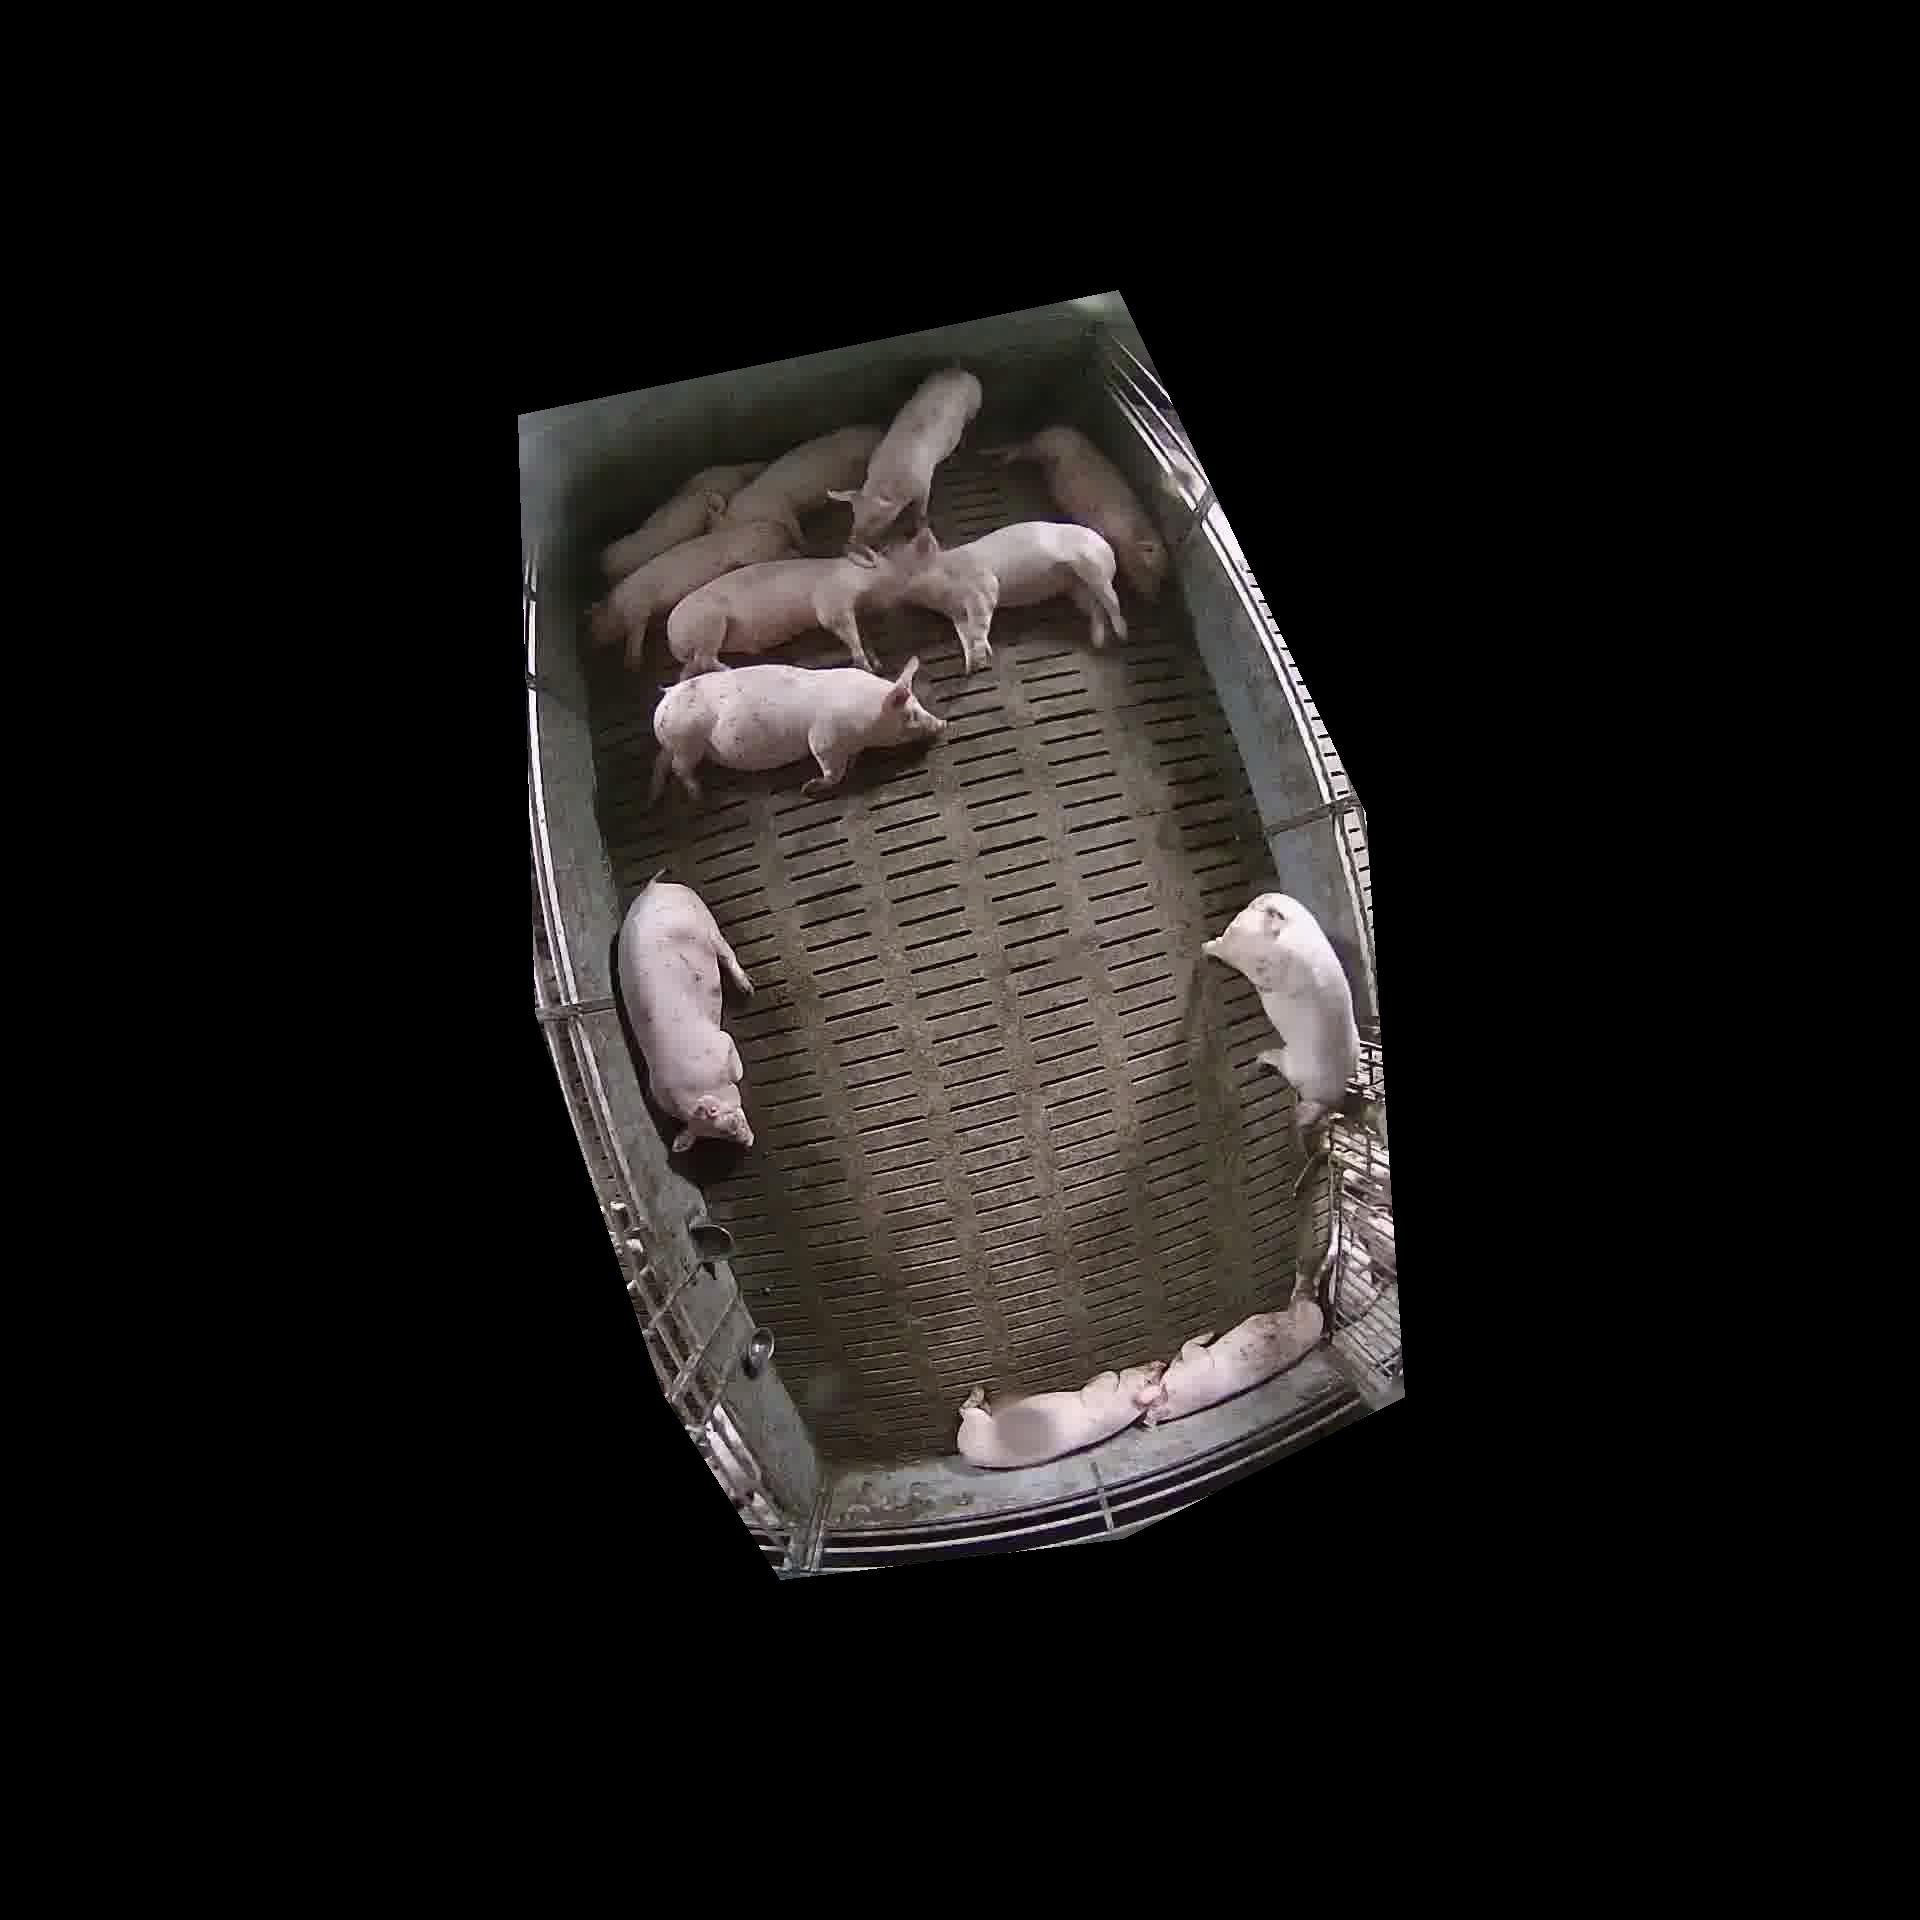pig: (651, 658, 944, 798), (1203, 893, 1357, 1132), (617, 879, 753, 1152), (895, 520, 1125, 672), (990, 425, 1167, 600), (589, 520, 795, 668), (666, 545, 893, 677), (828, 367, 981, 549), (1145, 1299, 1322, 1422), (956, 1363, 1162, 1466), (600, 462, 763, 584), (721, 425, 881, 542)
